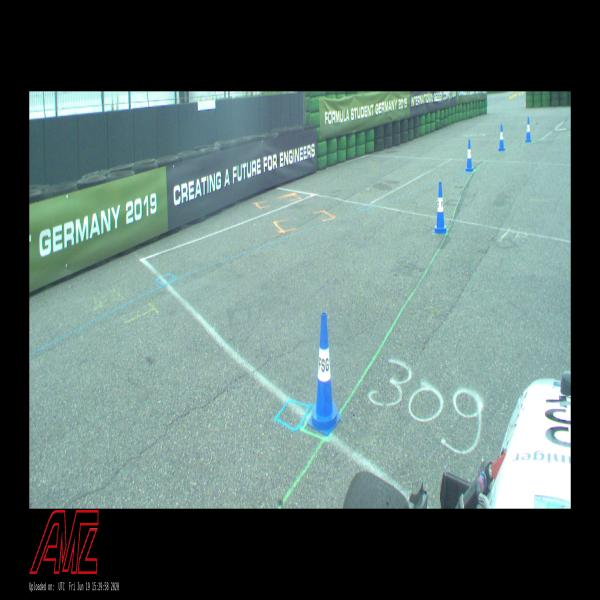blue_cone: (307, 312, 341, 435), (433, 182, 448, 234), (465, 140, 473, 172), (498, 124, 505, 151), (525, 118, 531, 142)
